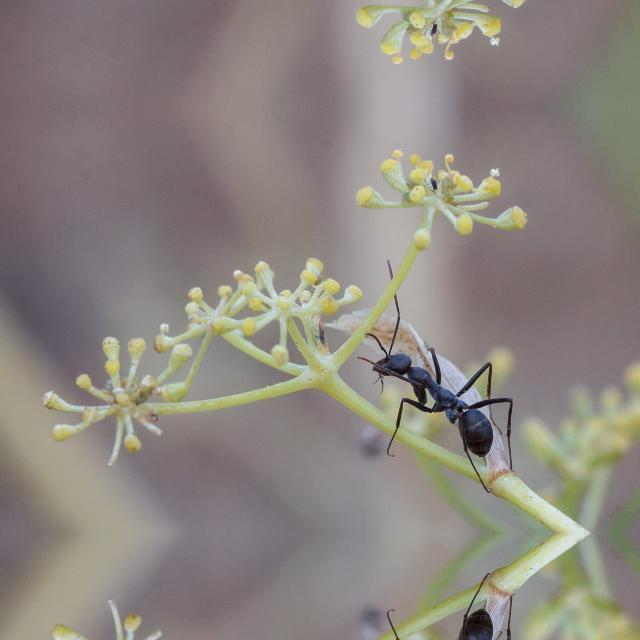Cataglyphis: (347, 321, 535, 473), (347, 592, 535, 640)
